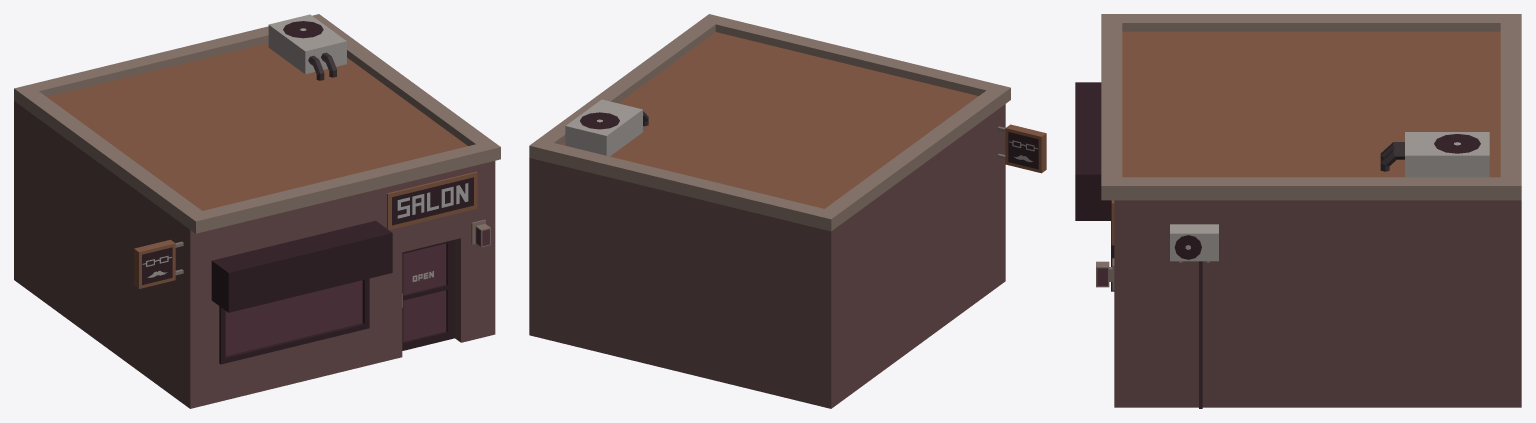
File: Building_8.fbx
The picture shows the model from 3 angles, left to right: view 1: azimuth 30°, elevation 25°; view 2: azimuth 150°, elevation 25°; view 3: azimuth 270°, elevation 25°; orthographic projection. The views are drawn at different scales.
Parts seen in each view (by area): view 1: Building_8, Building_8LP; view 2: Building_8; view 3: Building_8.
Part boxes in pixels (left/top/right/bottom): Building_8: left=14, top=14, right=500, bottom=408; Building_8LP: left=142, top=183, right=489, bottom=355; Building_8: left=529, top=14, right=1046, bottom=408; Building_8: left=1075, top=14, right=1521, bottom=408.
Bounding box in the file's own units: 9.44 × 5.06 × 8.56.
